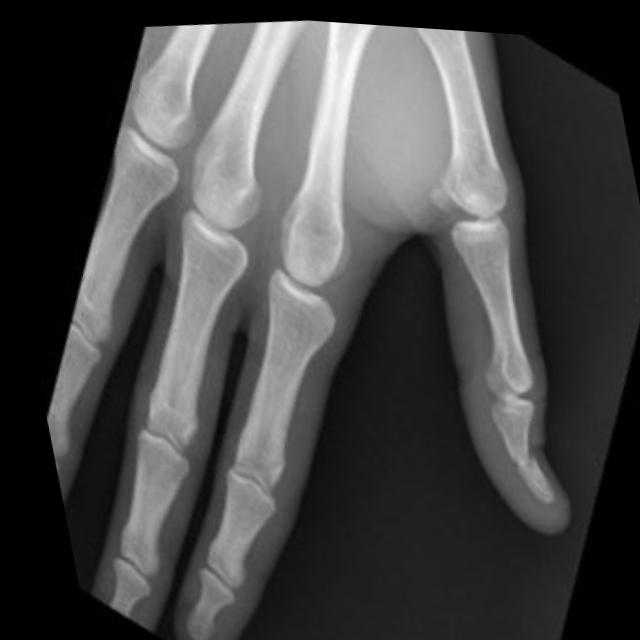fracture: (487, 434, 551, 476)
